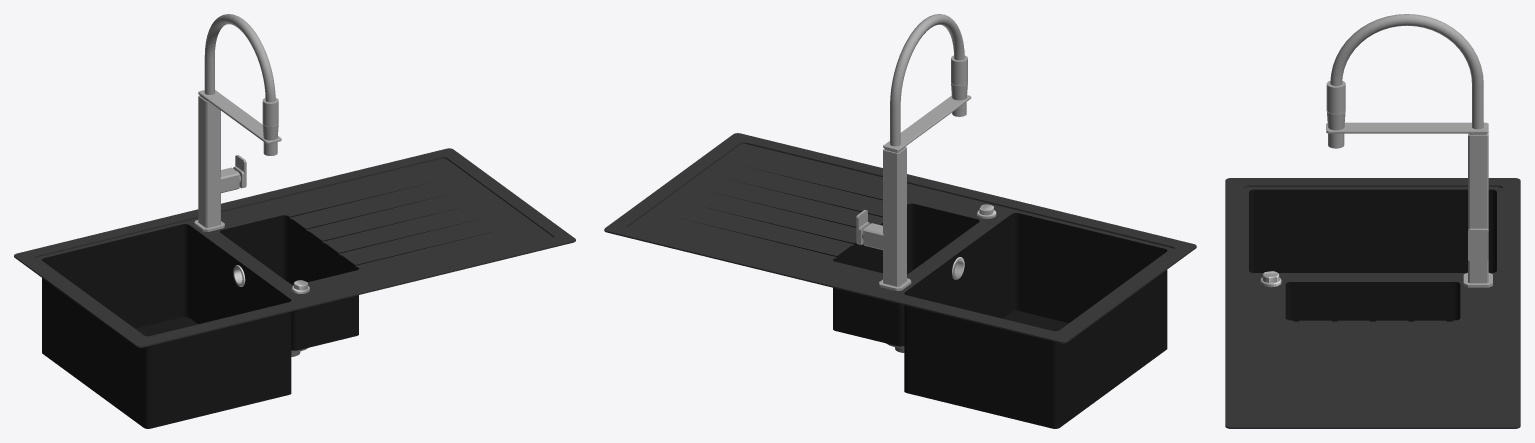
Rendered from evier.glb.
The picture shows the model from 3 angles, left to right: view 1: azimuth 30°, elevation 25°; view 2: azimuth 150°, elevation 25°; view 3: azimuth 270°, elevation 25°; orthographic projection. The views are drawn at different scales.
Parts seen in each view (by area): view 1: _C-Evier (Loose Mesh), G-Object.006, G-Object.007, G-Object.005, G-Object.004, G-Object.008; view 2: _C-Evier (Loose Mesh), G-Object.006, G-Object.007, G-Object.005, G-Object.004, G-Object.008; view 3: _C-Evier (Loose Mesh), G-Object.007, G-Object.006, G-Object.005, G-Object.004, G-Object.008, G-Object.013.
Part boxes in pixels (x1,y1,x2,y2): _C-Evier (Loose Mesh): (14, 148, 575, 428); G-Object.006: (194, 96, 224, 231); G-Object.007: (204, 14, 275, 102); G-Object.005: (198, 90, 281, 144); G-Object.004: (262, 98, 278, 155); G-Object.008: (220, 155, 246, 193); _C-Evier (Loose Mesh): (604, 133, 1196, 428); G-Object.006: (879, 148, 911, 290); G-Object.007: (890, 14, 964, 146); G-Object.005: (883, 95, 971, 153); G-Object.004: (951, 55, 967, 116); G-Object.008: (856, 210, 883, 249); _C-Evier (Loose Mesh): (1225, 178, 1520, 428); G-Object.007: (1330, 14, 1483, 129); G-Object.006: (1463, 135, 1492, 287); G-Object.005: (1326, 122, 1488, 135); G-Object.004: (1326, 80, 1345, 148); G-Object.008: (1468, 228, 1488, 261); G-Object.013: (1260, 271, 1281, 287).
Size of the model in its own units: 1 by 0.7811 by 0.5.
6 materials, 1 textured.
